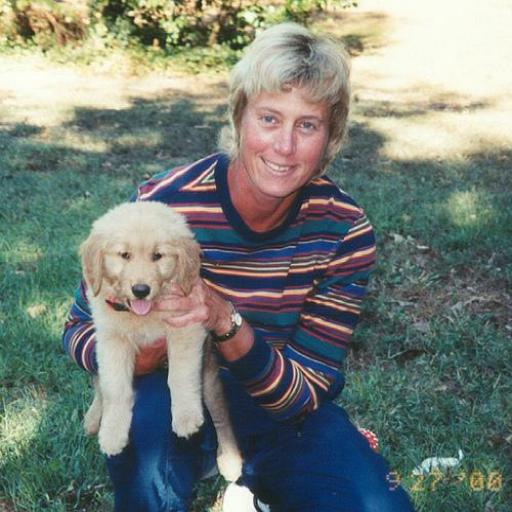dog_face: (69, 205, 196, 305)
